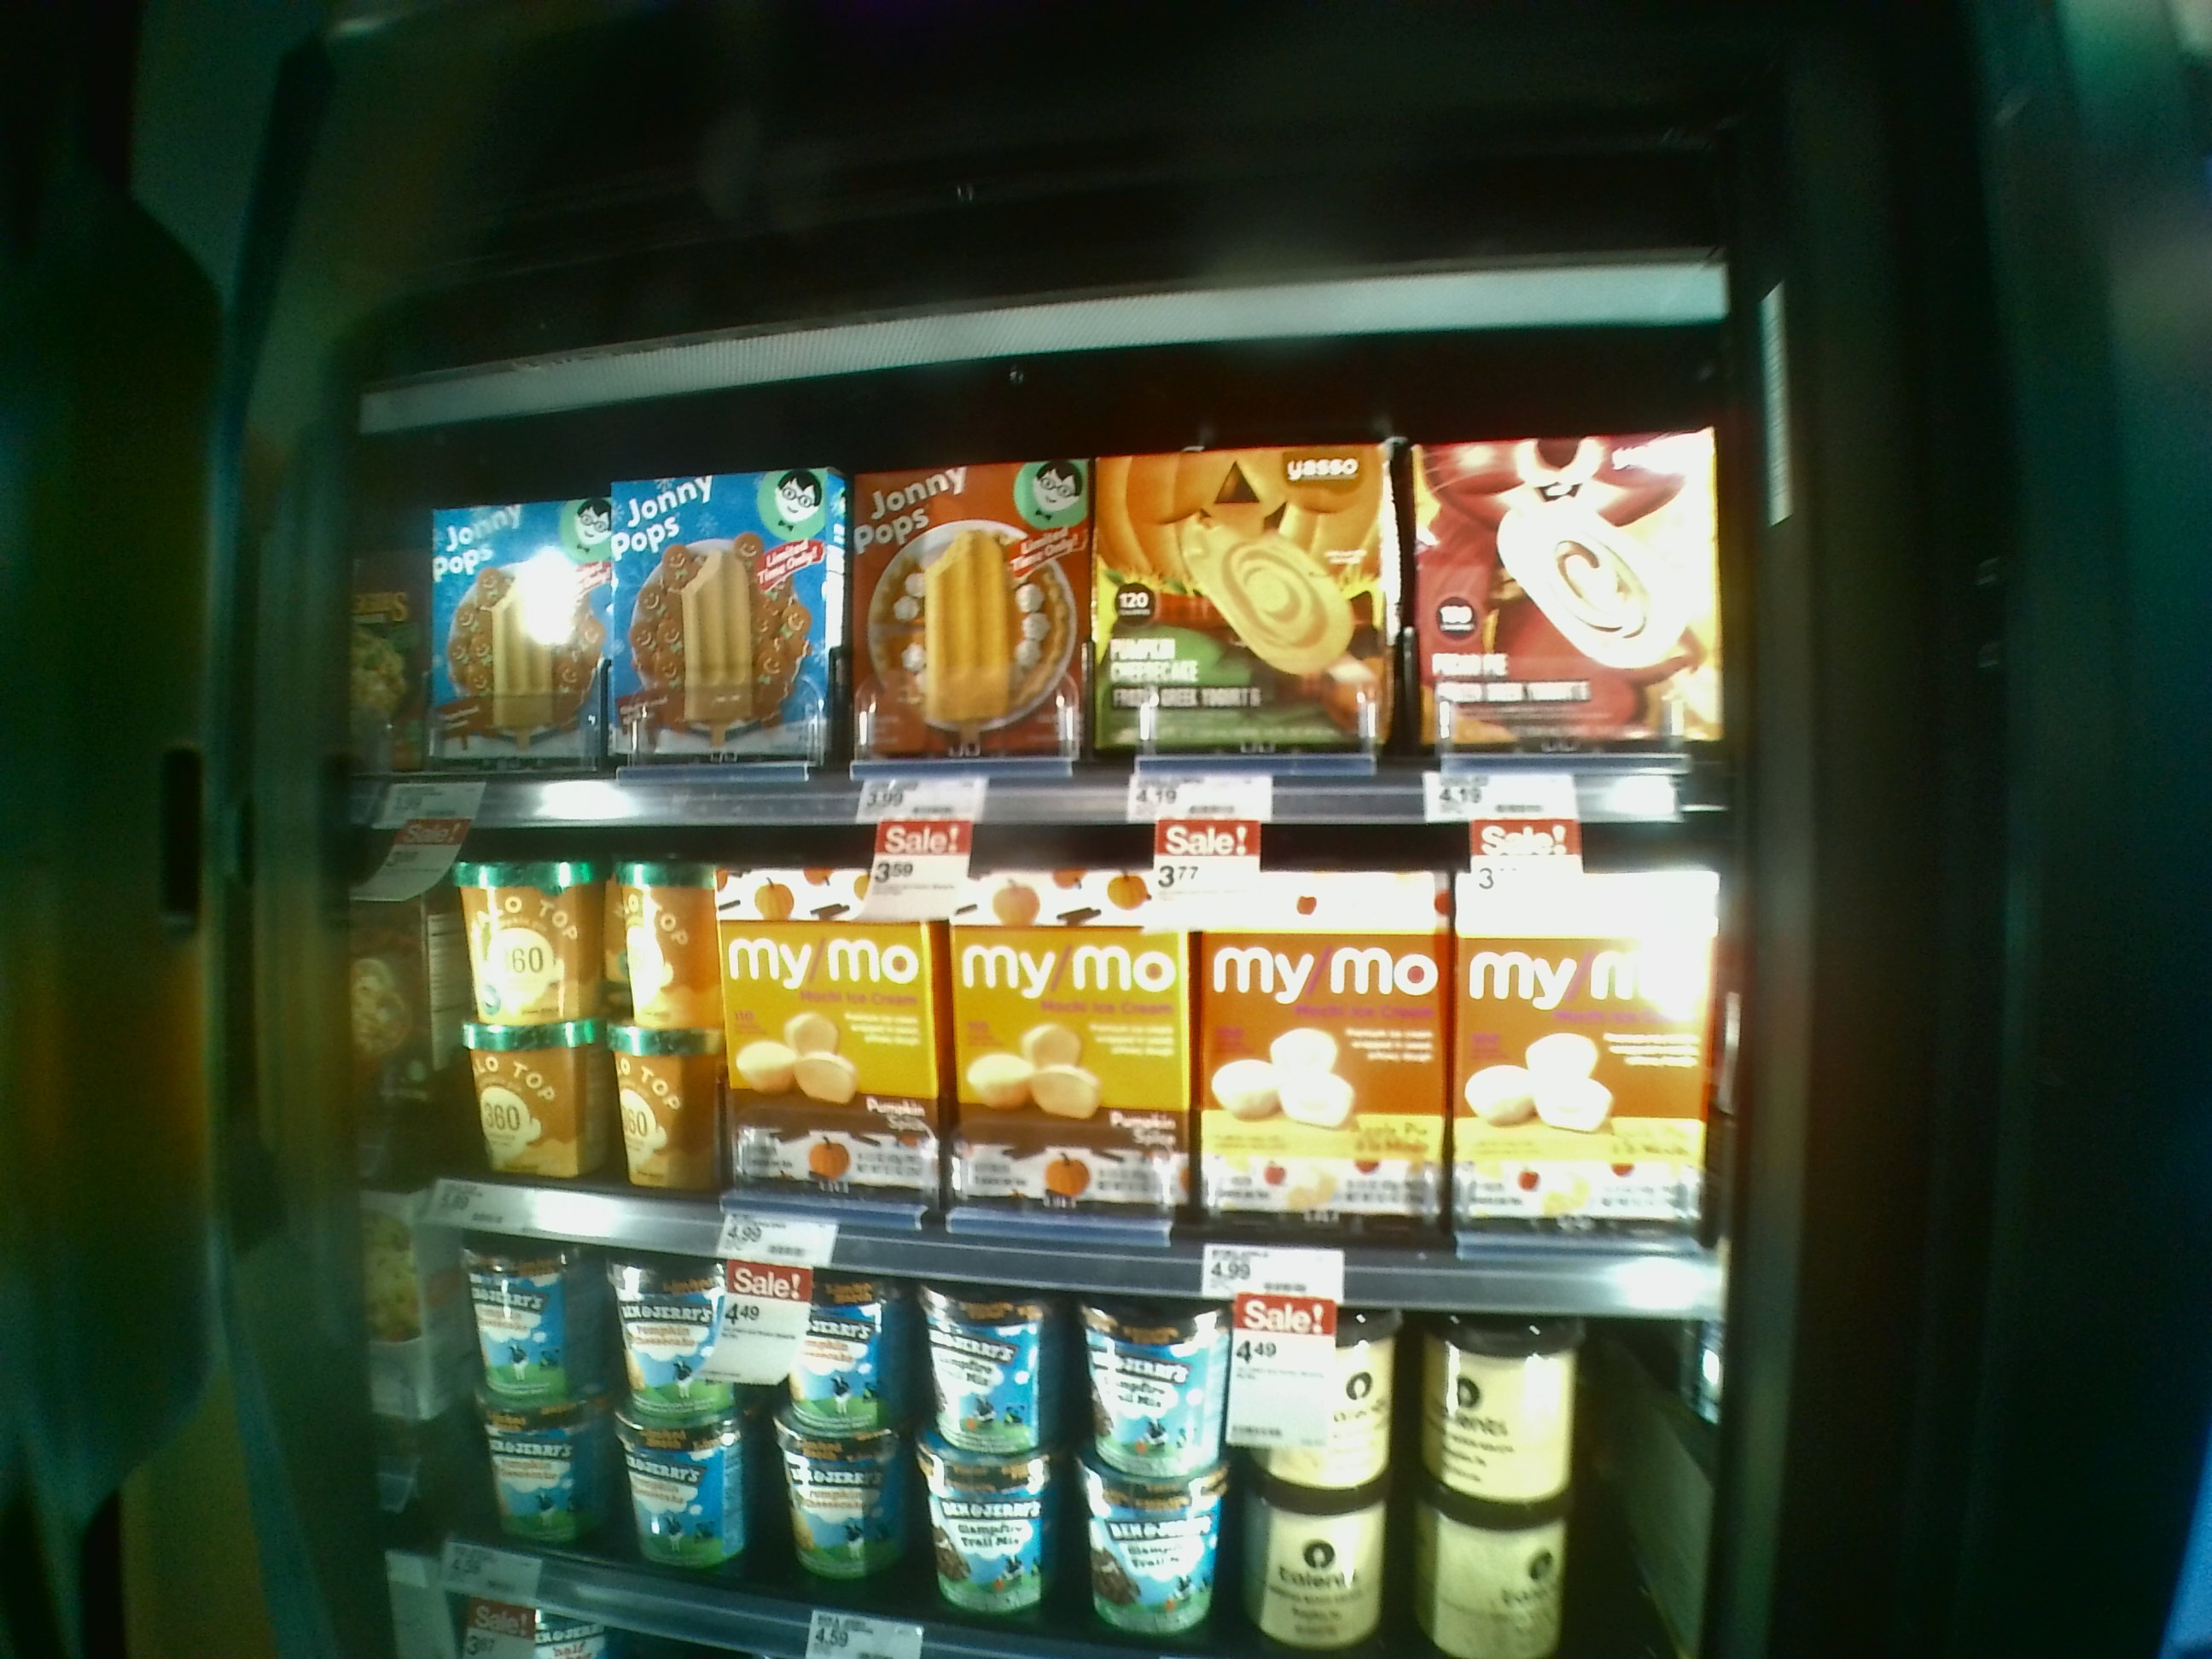shelf: (376, 779, 1737, 1303), (355, 375, 1742, 803)
